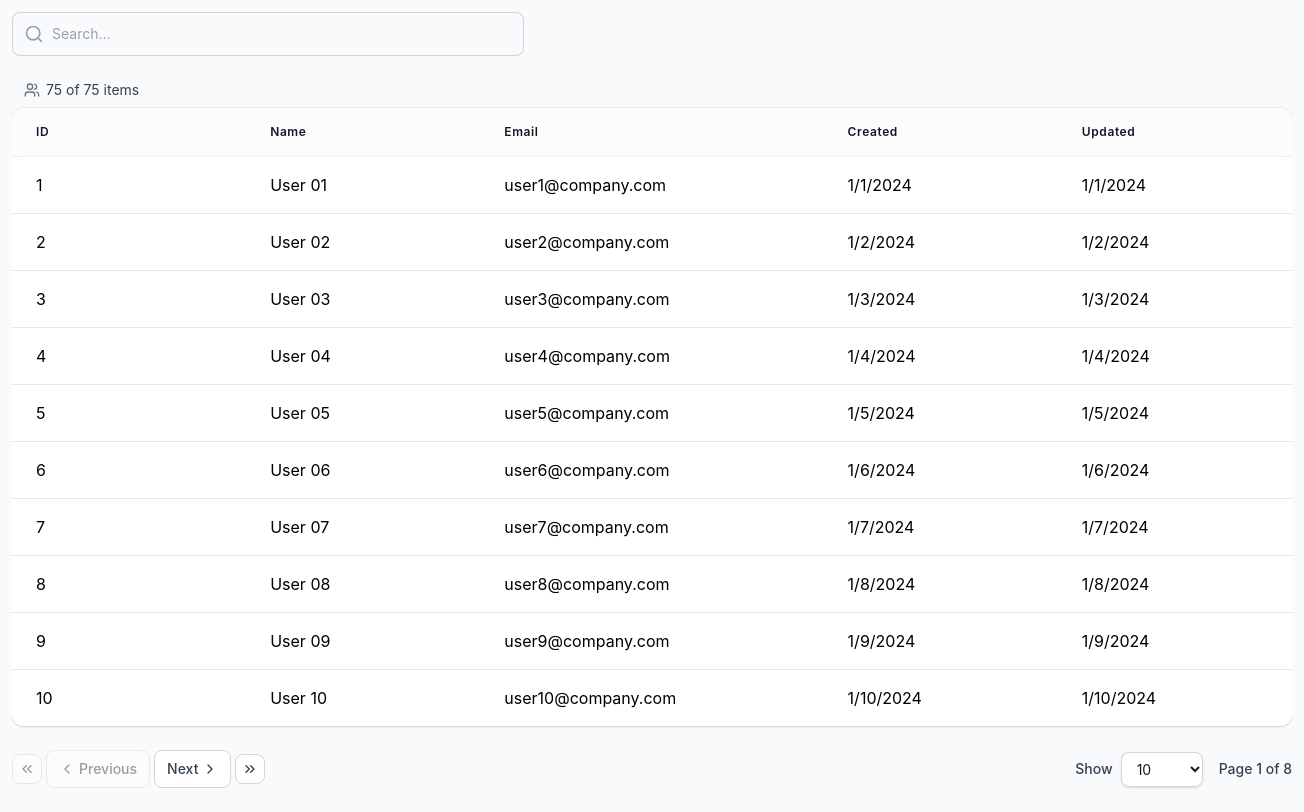
it: GenericDataTable Integration Tests › Search Functionality › clears search and restores full dataset
This screenshot has width=1304, height=812.
Note: Apply search
In the field with placeholder "Search...": {"x": 268, "y": 34} [12, 12, 524, 56], type "User 1"
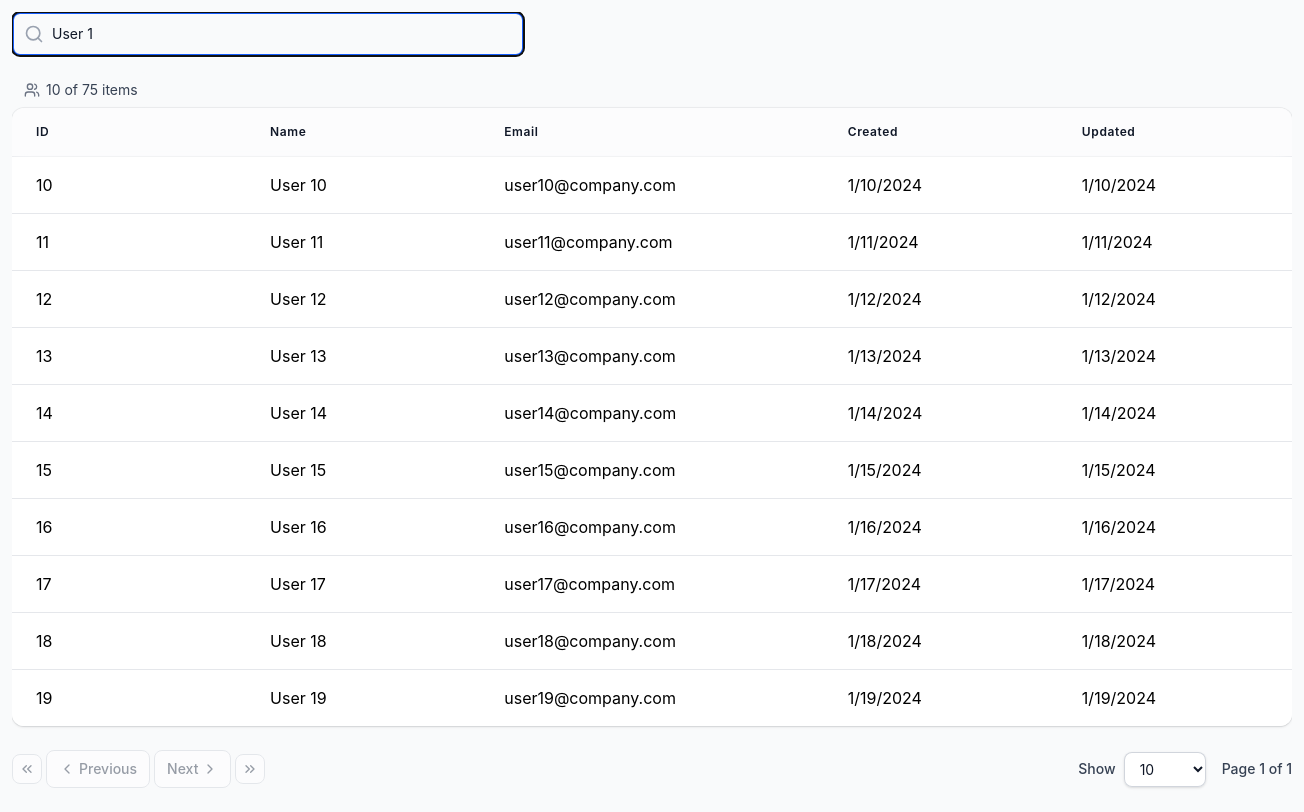
Expected: the text "10 of 75 items" is shown, [46, 80, 138, 100]
Note: Clear search
Clear the field with placeholder "Search...": {"x": 268, "y": 34} [12, 12, 524, 56]
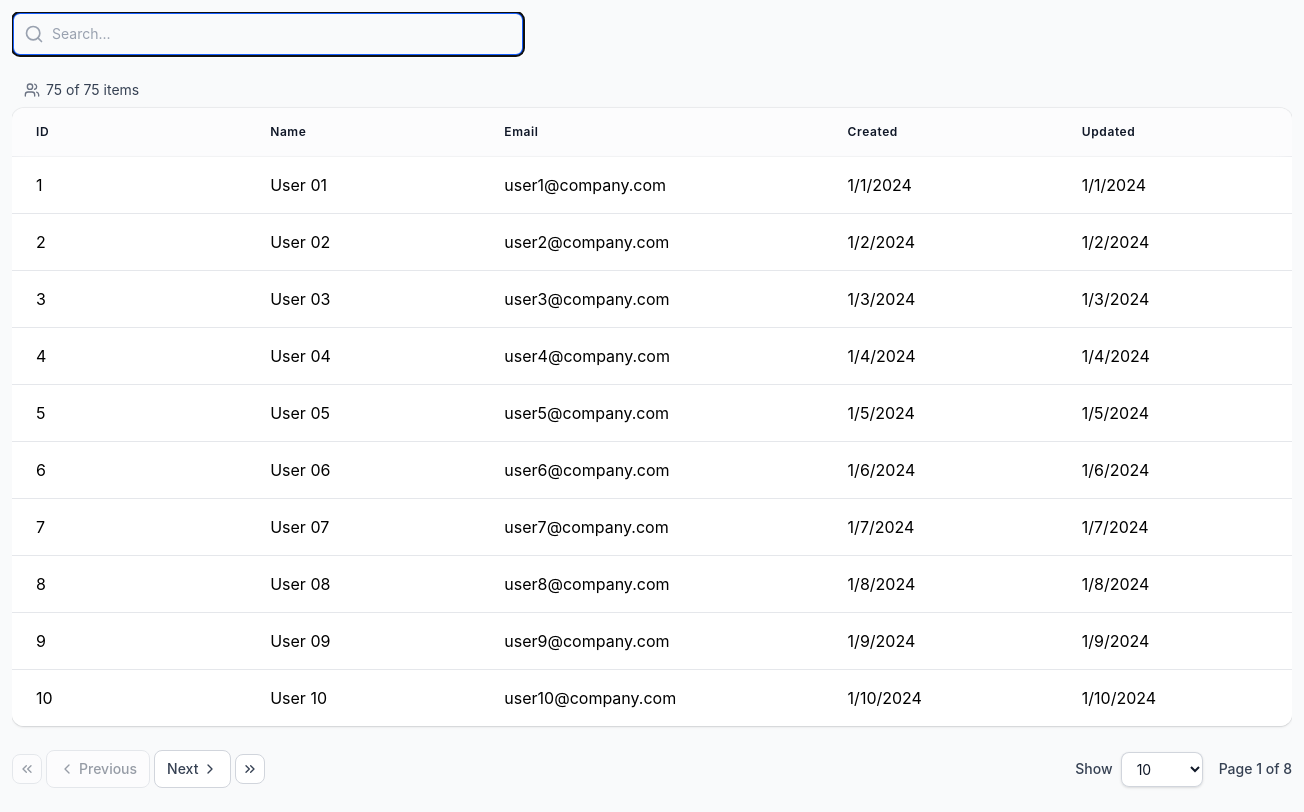
Expected: the text "75 of 75 items" is shown, [46, 80, 139, 100]
